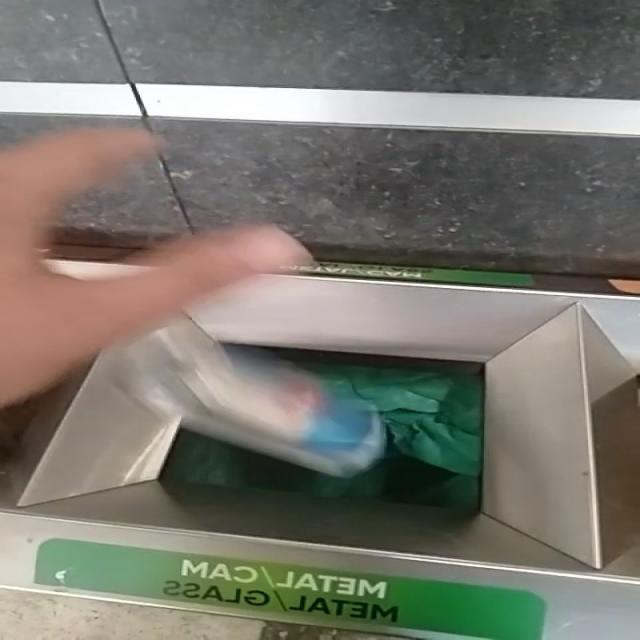Bin: (0, 276, 639, 640)
Metal: (108, 318, 385, 477)
